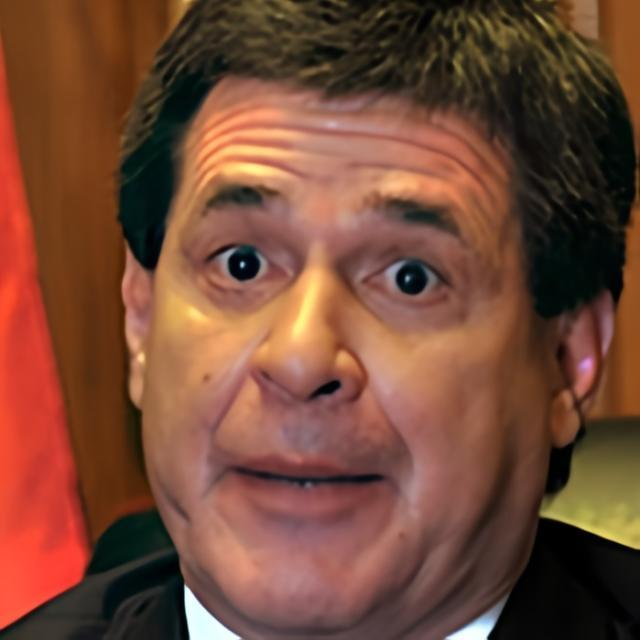surprise: (146, 71, 546, 640)
